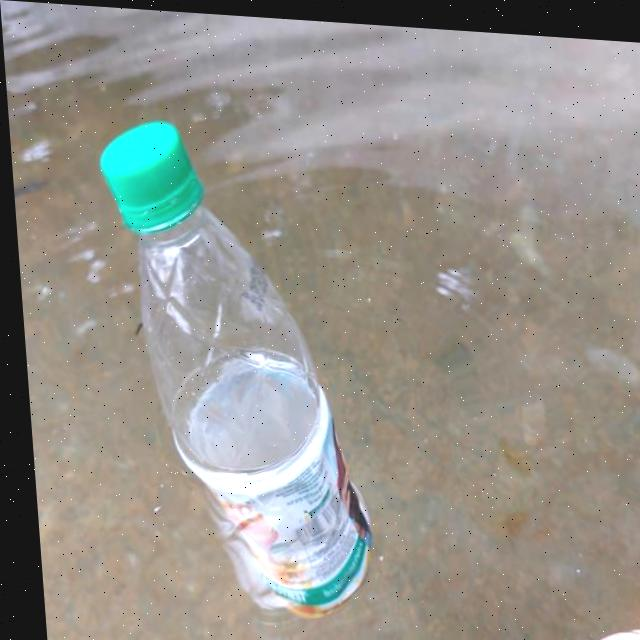leaf: (547, 591, 640, 640)
waterbottle: (90, 114, 382, 625)
